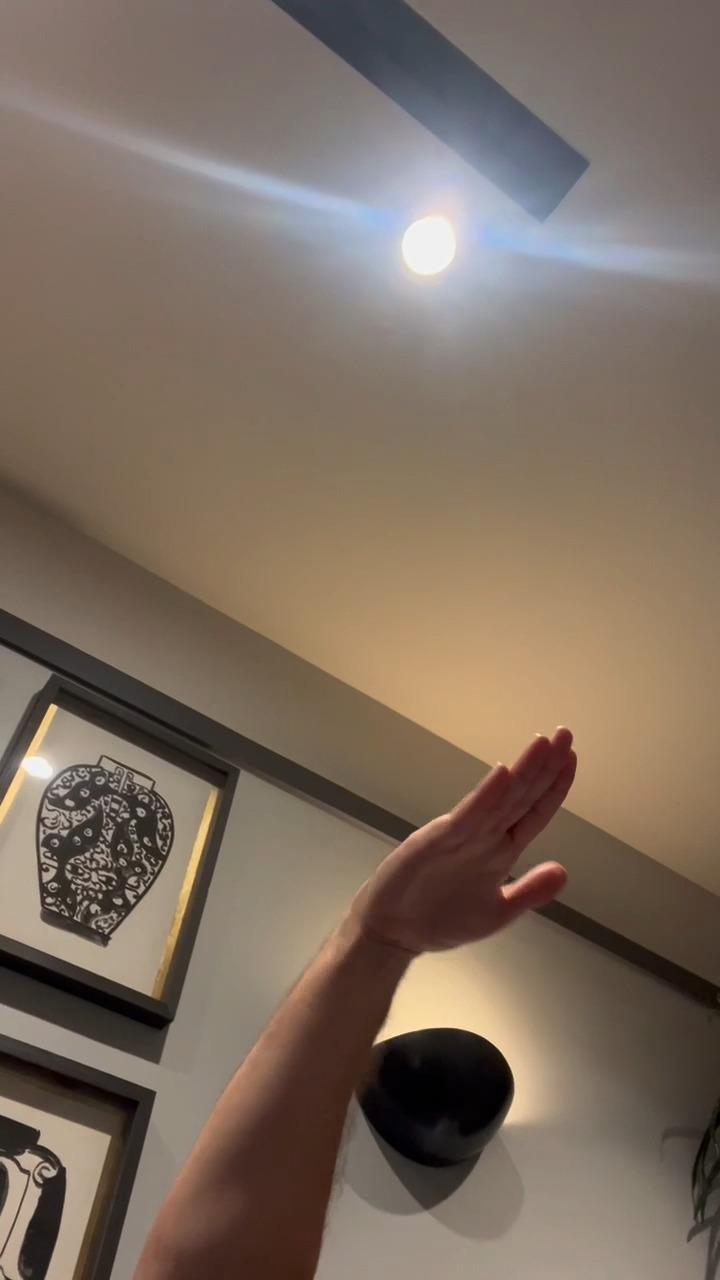Paper: (356, 722, 583, 960)
